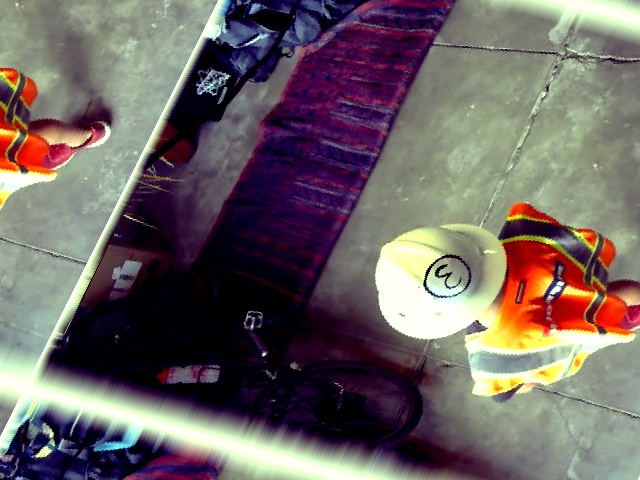three: (415, 249, 479, 302)
